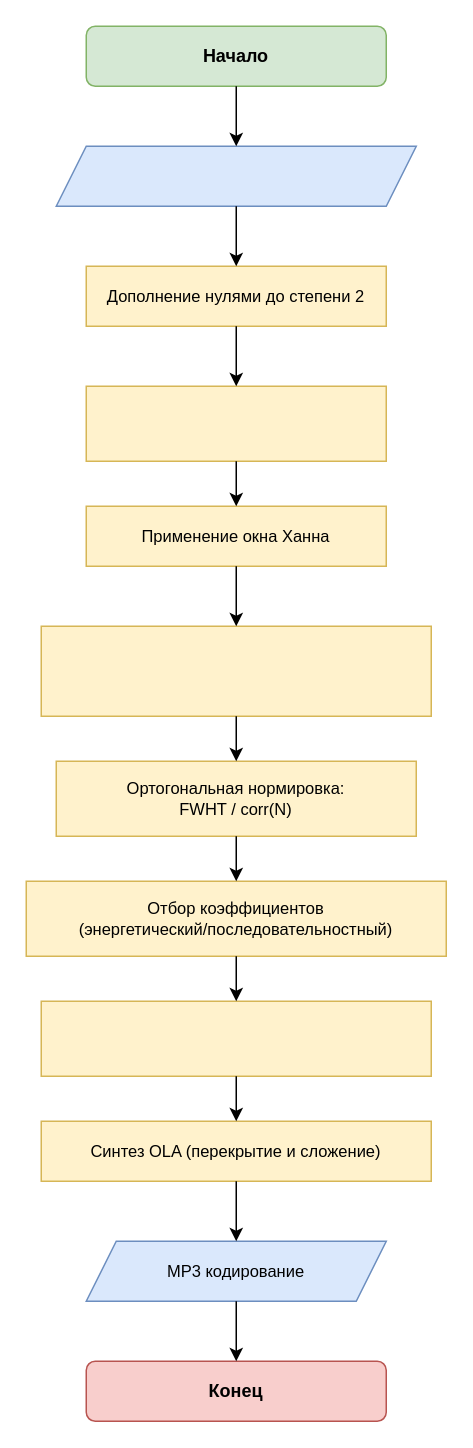
The diagram is 473 pixels wide and 1448 high, and some of its shapes have lost their labels. Here are the shapes that lost their labels. From the top down, the centre of each, then its label:
point 235,175: WAV файл (PCM сигнал)
point 235,423: Разбиение на блоки (2048 отсчётов)
point 235,670: Прямое ПУА (баттерфляй-алгоритм): только сложения и вычитания
point 235,1038: Обратное ПУА (самообратное преобразование)
